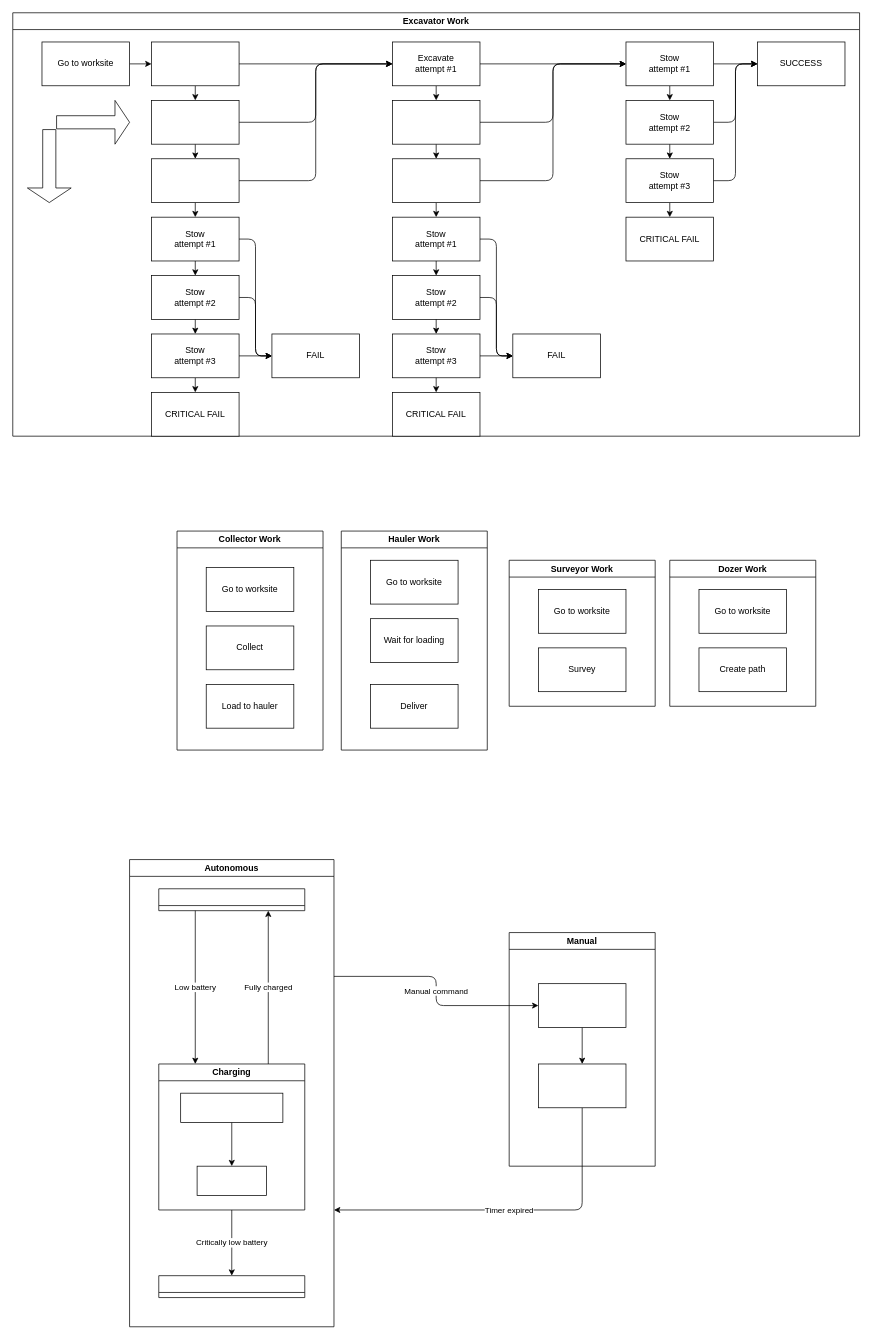
Some shapes in this 872 by 1340 pixel diagram are drawn without their labels. Here are the shapes that lost their labels. From the top down, the centre of each, then its label:
At pixel 195 63: "Ready pose attempt #1".
At pixel 93 122: "Sequence".
At pixel 195 122: "Ready pose attempt #2".
At pixel 436 122: "Excavate attempt #2".
At pixel 49 166: "Fallback".
At pixel 195 180: "Ready pose attempt #3".
At pixel 436 180: "Excavate attempt #3".
At pixel 231 899: "Working".
At pixel 582 1005: "ManualTask".
At pixel 582 1085: "Idle".
At pixel 231 1107: "Go to charging station".
At pixel 231 1180: "Charge".
At pixel 231 1286: "Sleep".
